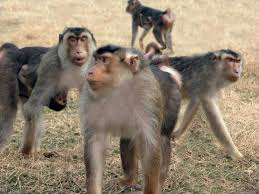monkey: (0, 17, 101, 151), (155, 34, 253, 170), (86, 44, 164, 156), (114, 3, 194, 57)
